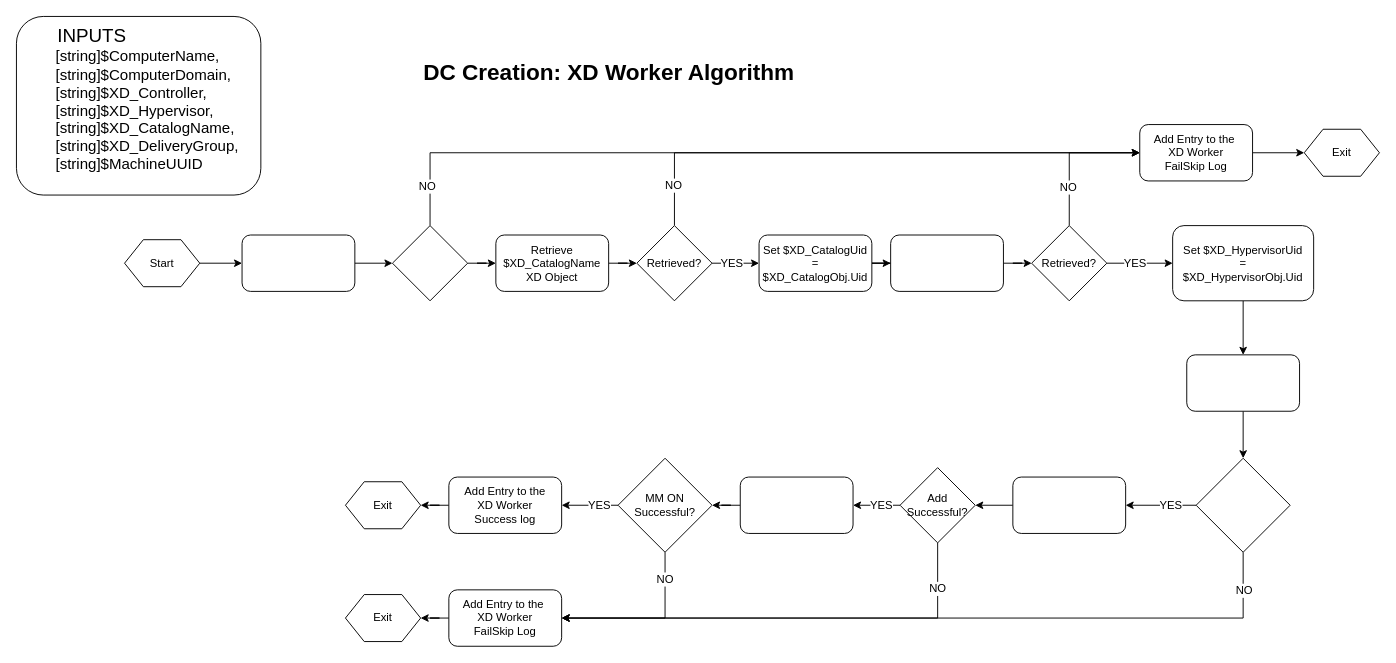
Image size: 1396x663. Some labels were removed from this diagram. Each missing label, with the centre of its shape:
Add $ComputerName to $XD_DeliveryGroup: the point at 1069,504
Import $ComputerName in XD: the point at 1243,382
Import Successful?: the point at 1242,504
Load Citrix Broker Snapin: the point at 298,262
Retrieve $XD_Hypervisor XD Object: the point at 946,262
Set Maintenance Mode ON: the point at 796,504
Snapin Loaded?: the point at 430,263
